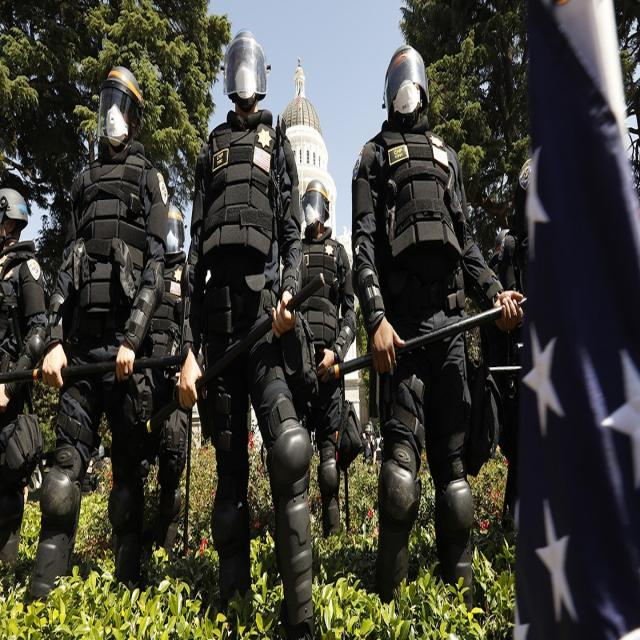police: (344, 22, 518, 536), (178, 23, 300, 554), (42, 45, 164, 489), (286, 169, 362, 489), (0, 167, 48, 555), (142, 190, 194, 520)
